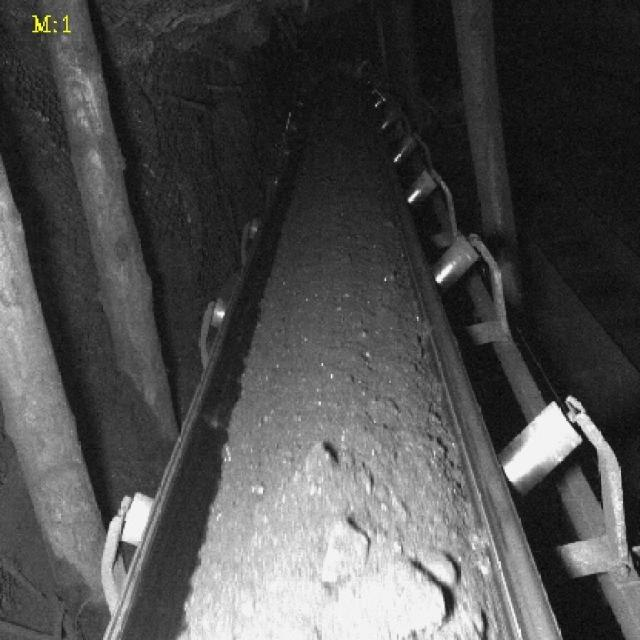large_sized_coal: (323, 552, 454, 640), (268, 438, 352, 522), (322, 516, 369, 578)
